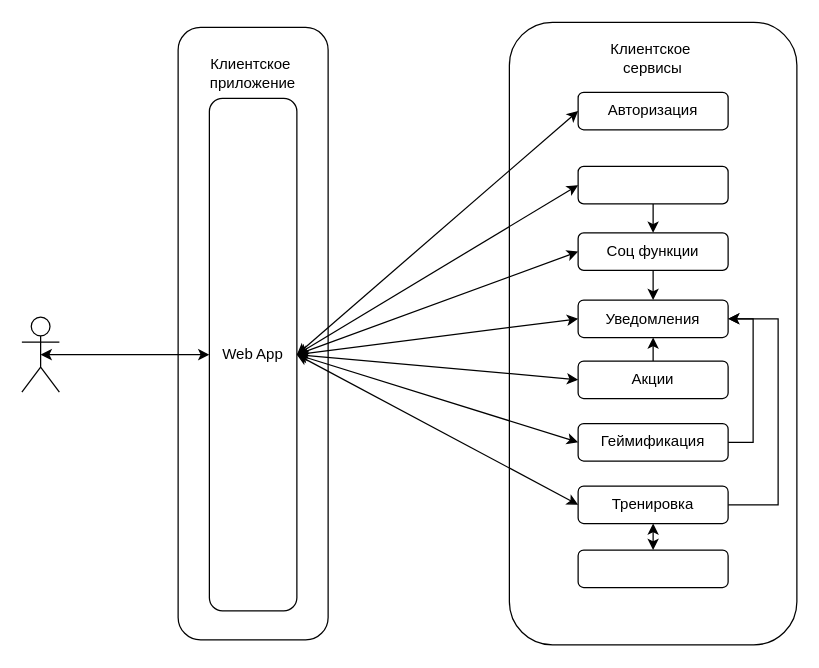
The diagram is 819 pixels wide and 668 high, and some of its shapes have lost their labels. The shapes that lost their labels are listed below. From the top down, each one's centre as x and y in pixels, then its label:
point (652, 184): Клиенты
point (40, 354): User
point (652, 568): Устройства
